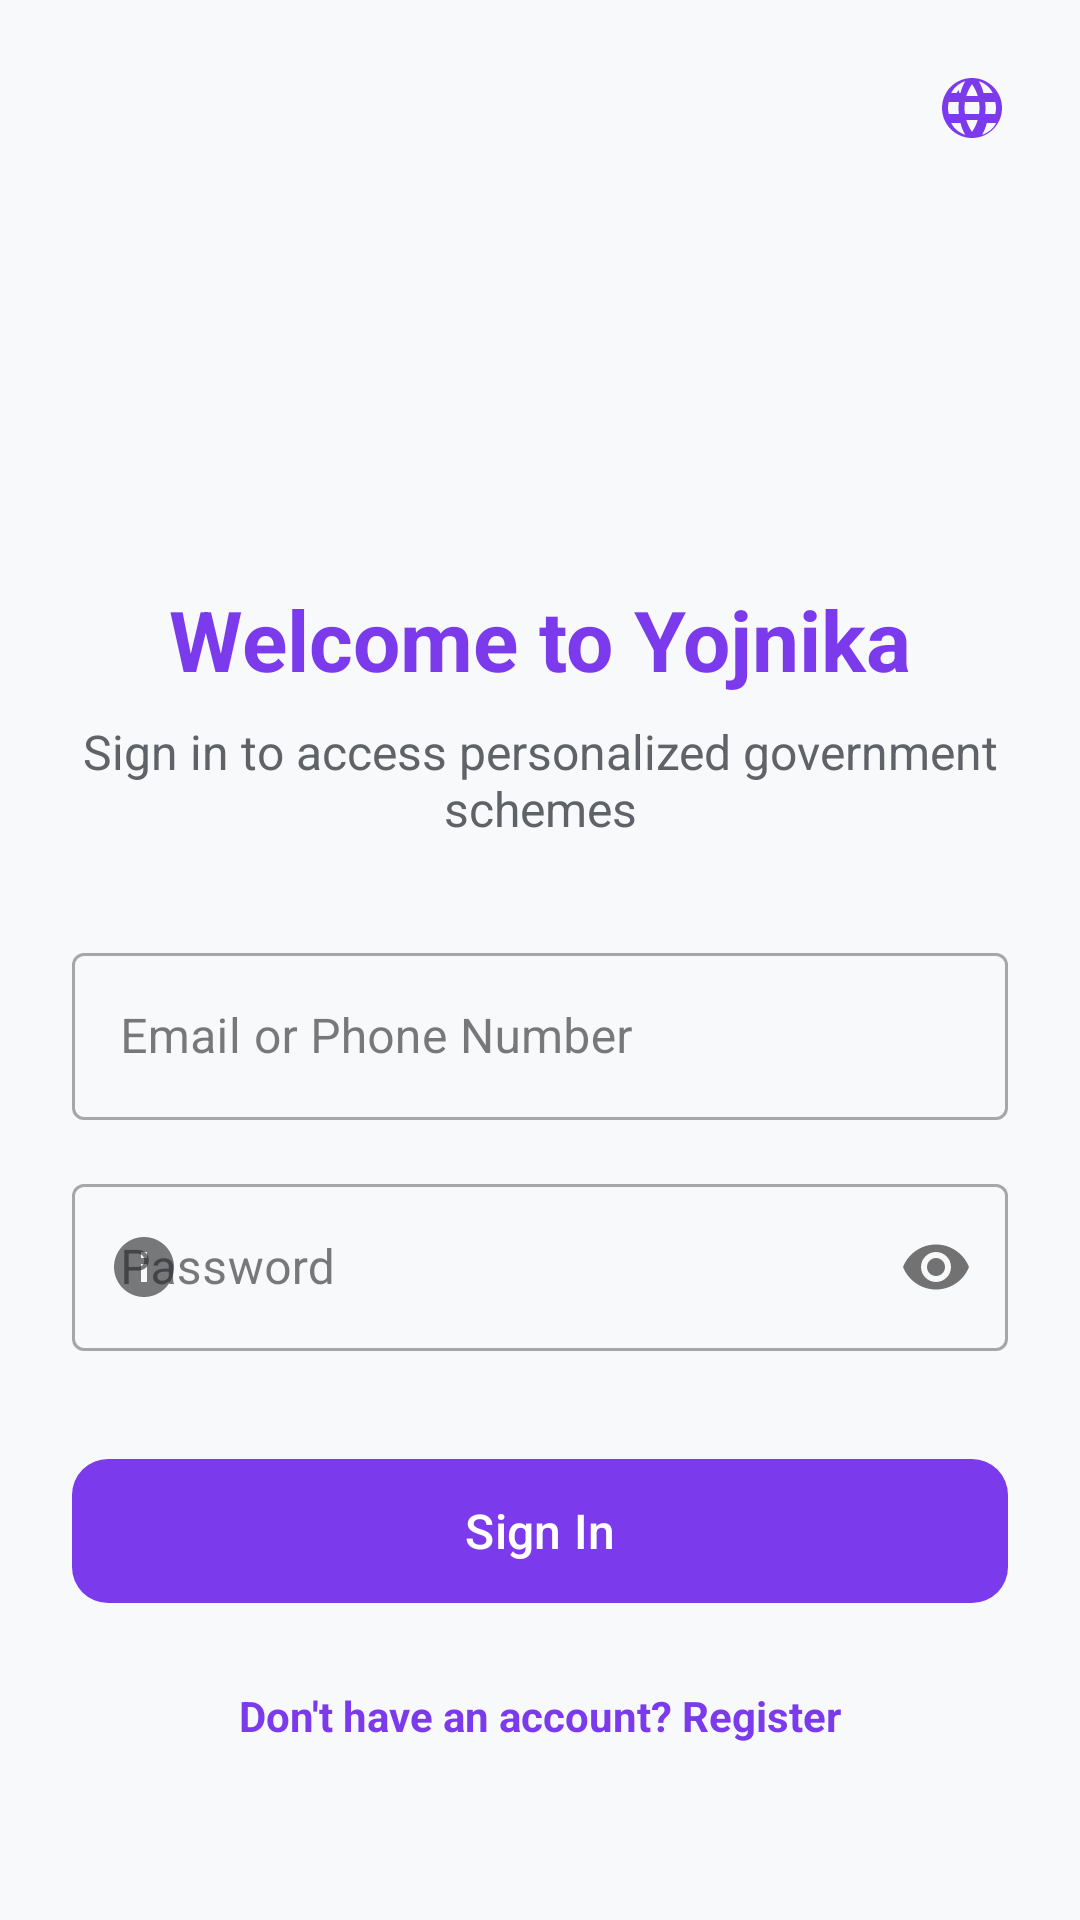

Icons on this 1080px x 1920px Android screen, each with its box as (x1, y1, x2, y2):
language: (942, 78, 1002, 138)
